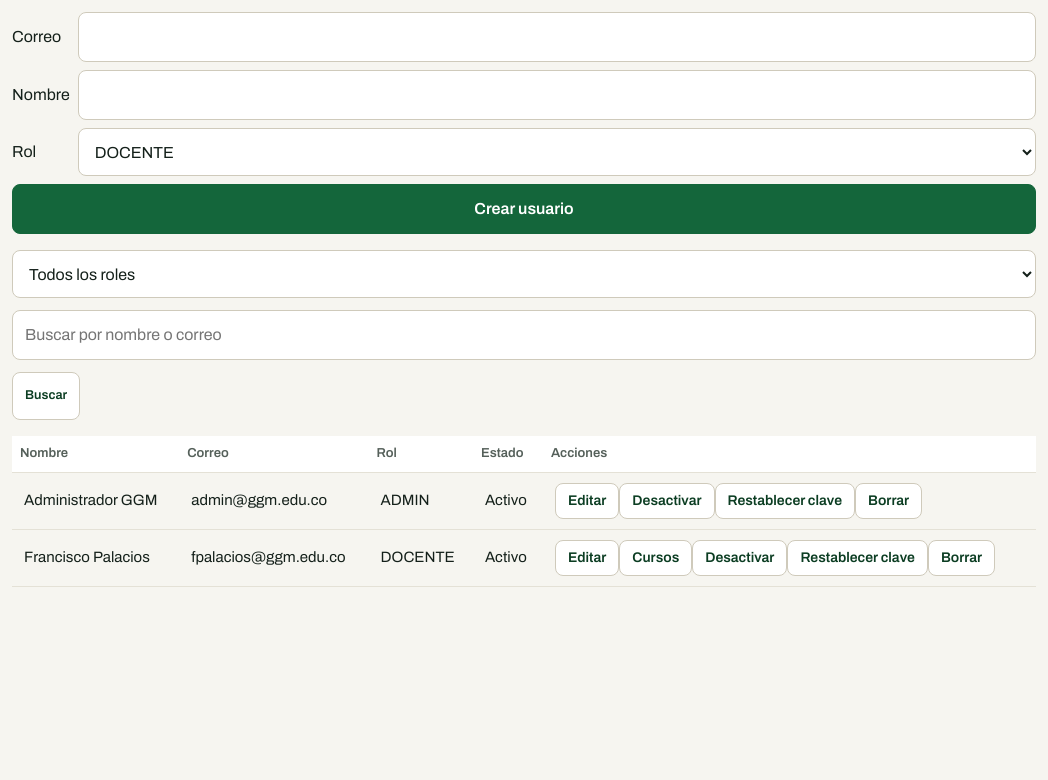
PanelUsuarios › si el servidor rechaza el borrado muestra el motivo
Expected: the text "Francisco Palacios" is shown, [12,529,179,586]
Click the button with aria-label "borrar cuenta de francisco palacios": (961, 558) [928,540,995,576]
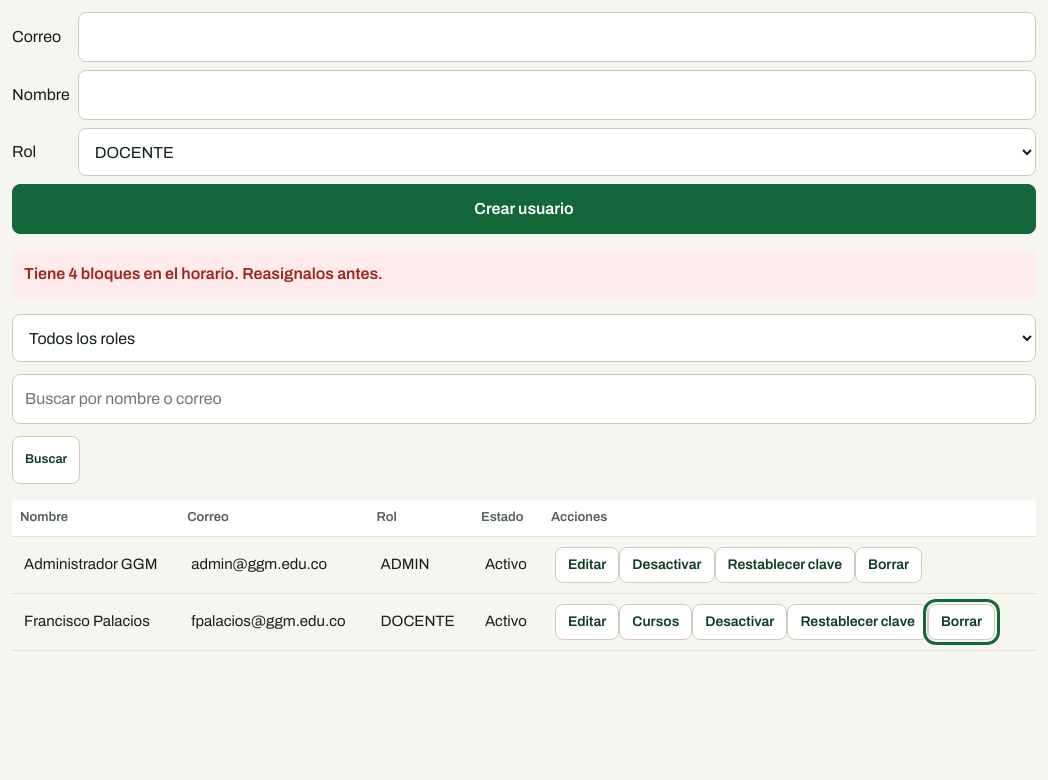
Now the message shows "Tiene 4 bloques", box [24,265,383,282]
